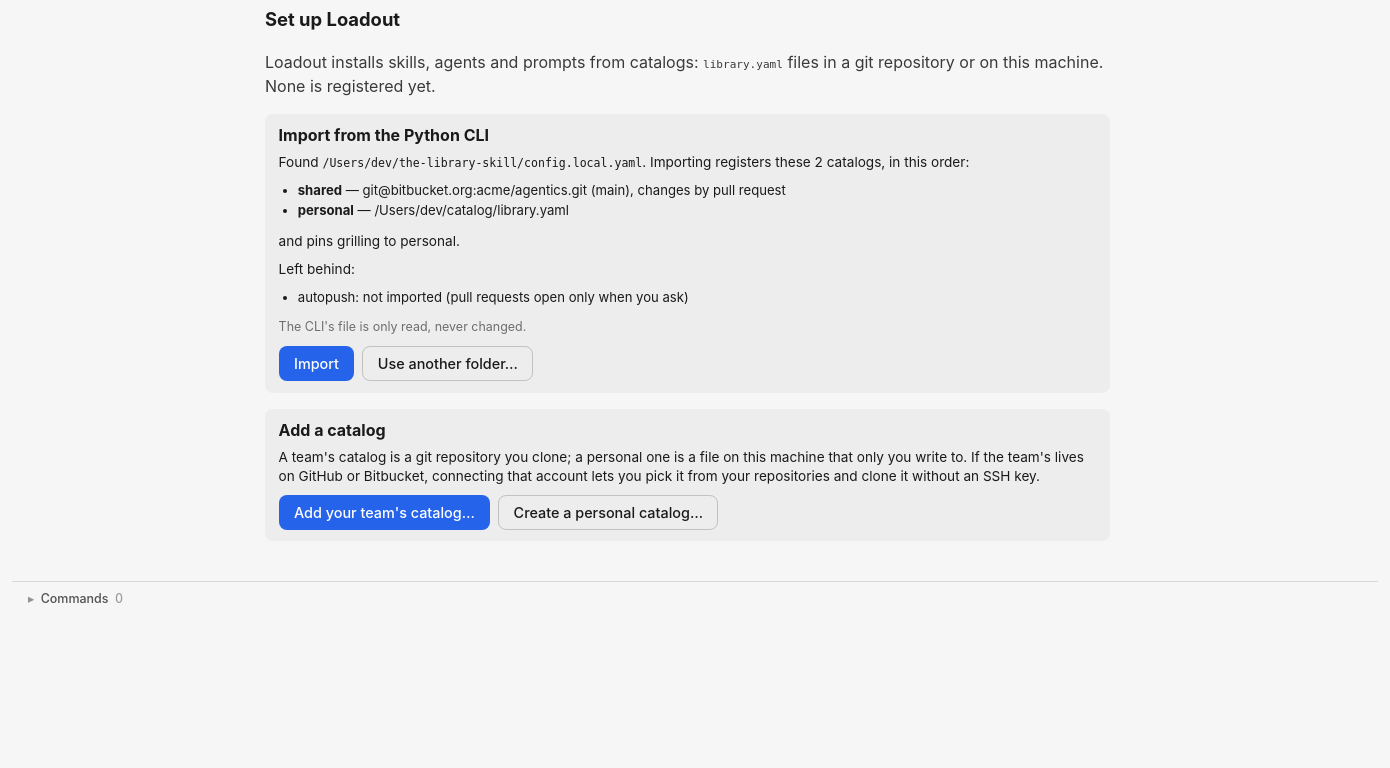
first run: nothing registered › re-plans when the CLI's file changed after it was read, and says why
This screenshot has width=1390, height=768.
Click the button "Import". click: (316, 364)
box: [279, 346, 354, 381]
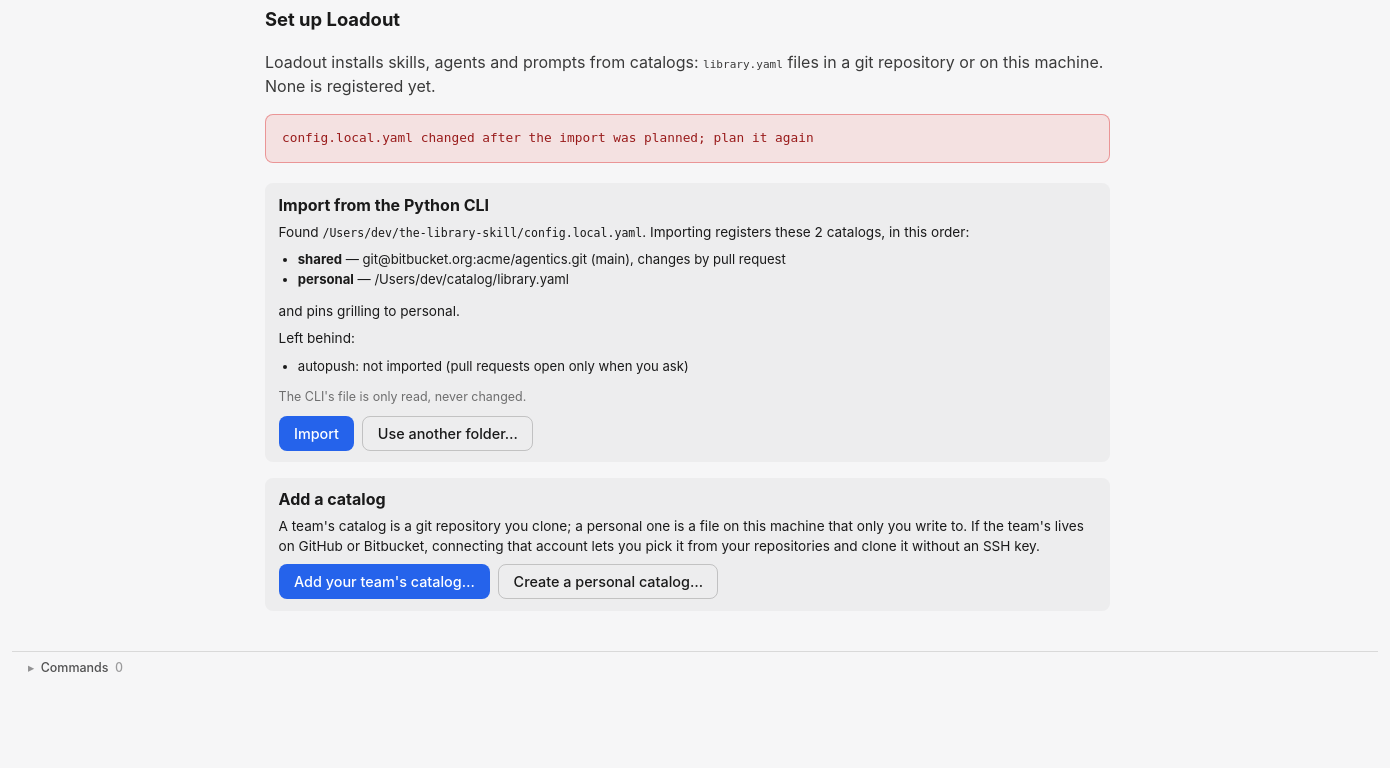
Expected: the element with class "first-run" is shown, [265, 8, 1110, 611]
Expected: the element with class "first-run" shows "changed after the import was planned", [282, 130, 814, 145]
